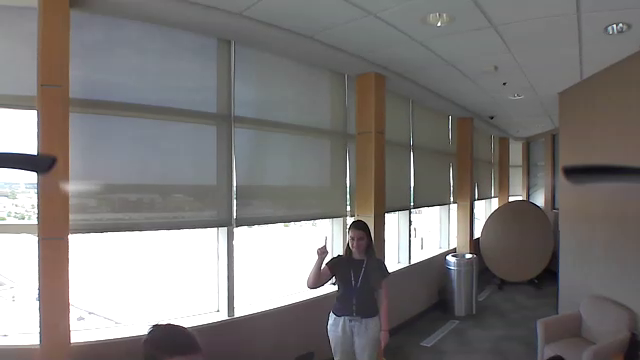up: (315, 233, 330, 260)
